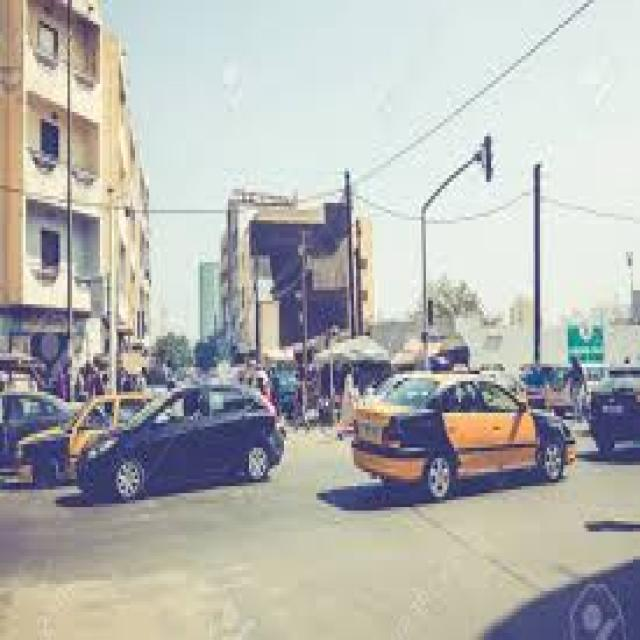feu: (422, 139, 494, 369)
particulier: (78, 384, 285, 501)
taxi: (356, 375, 566, 501)
